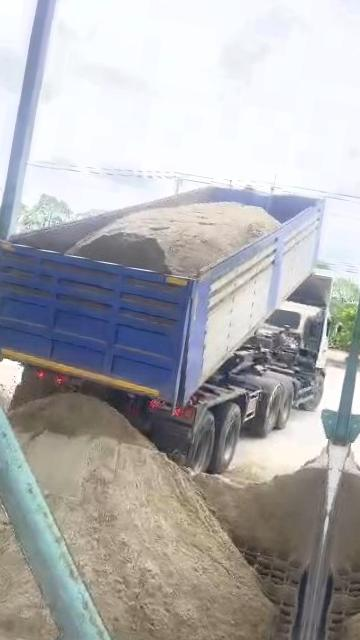sand: (12, 393, 274, 640), (69, 202, 279, 276), (195, 456, 327, 567), (0, 438, 54, 631)
